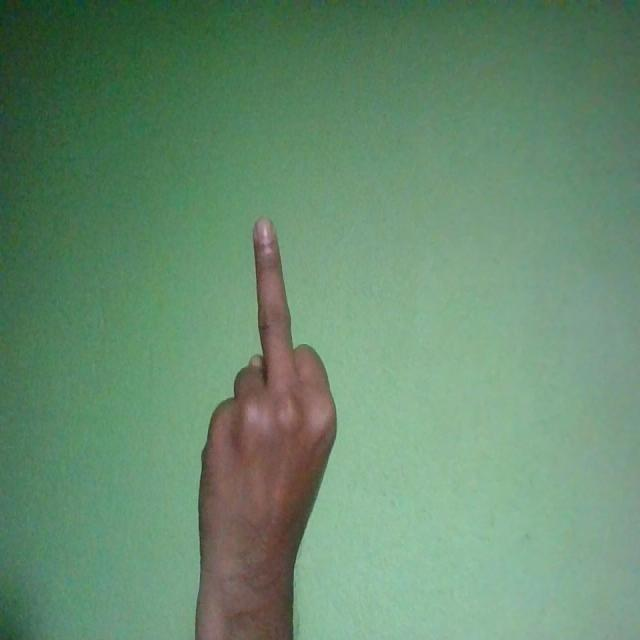Middle Finger: (197, 218, 337, 634)
